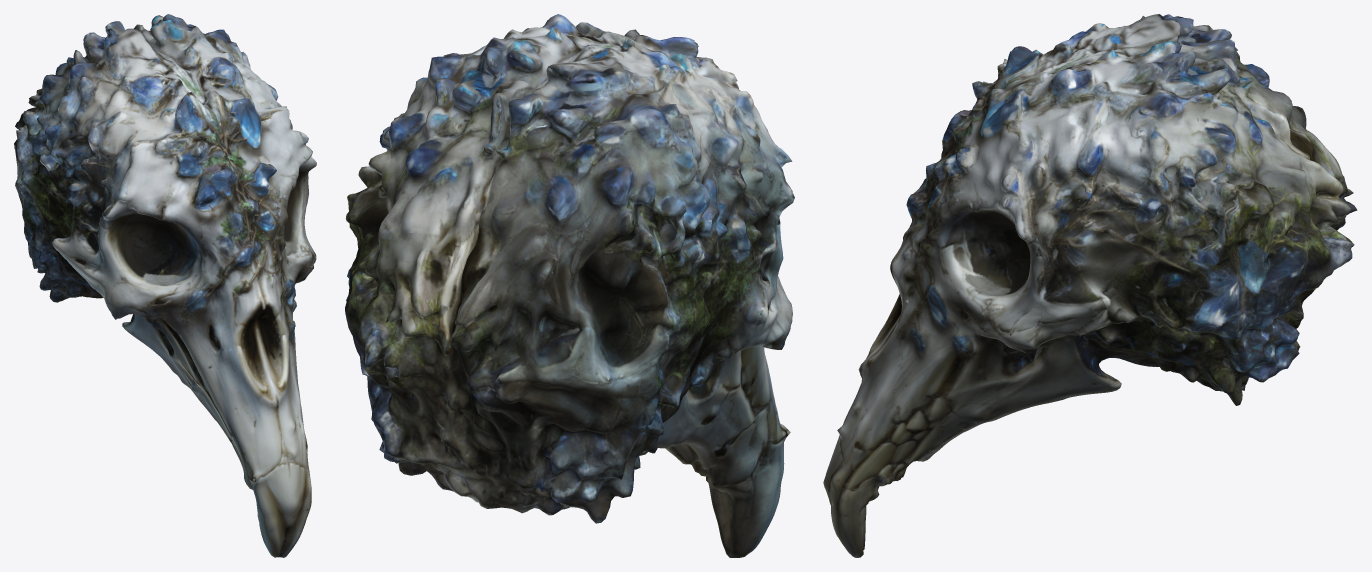
File: crow.glb
3 renders of one model, left to right at view 1: azimuth 30°, elevation 25°; view 2: azimuth 150°, elevation 25°; view 3: azimuth 270°, elevation 25°, orthographic. The views are drawn at different scales.
Visible parts, largest first — view 1: Mesh_0; view 2: Mesh_0; view 3: Mesh_0.
Part boxes in pixels (<box>): Mesh_0: <box>14,14,316,557</box>; Mesh_0: <box>345,14,794,557</box>; Mesh_0: <box>823,14,1357,557</box>.
Bounding box in the file's own units: 1.16 × 1.99 × 1.83.
Materials: 1 (1 with a texture image).
